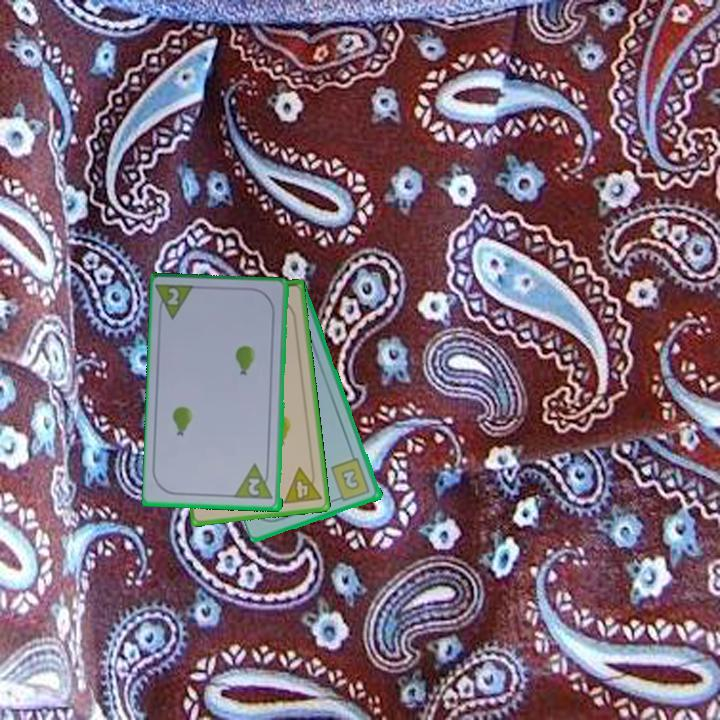2b: (328, 455, 373, 504)
2p: (233, 461, 276, 502), (165, 284, 182, 308)
4p: (280, 463, 324, 507)
